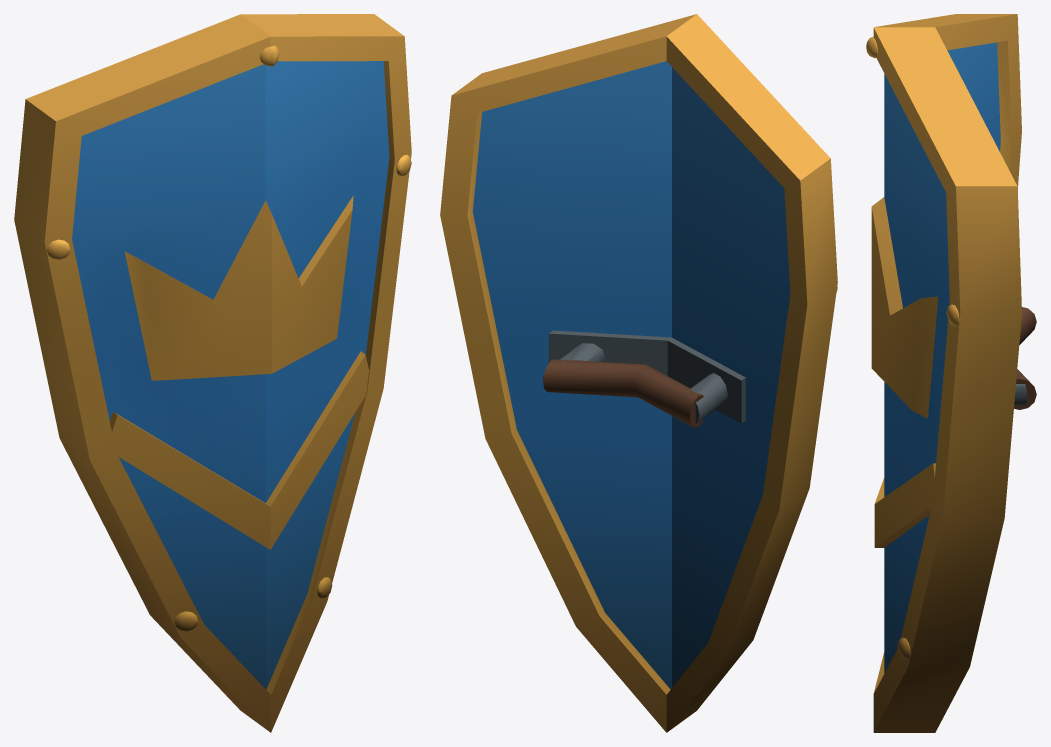
The model's file is shield_royal_crown.glb.
3 views of the same model, side by side, from view 1: azimuth 30°, elevation 25°; view 2: azimuth 150°, elevation 25°; view 3: azimuth 270°, elevation 25° (orthographic).
Parts seen in each view (by area): view 1: Item; view 2: Item; view 3: Item.
Part boxes in pixels (box(x1,y1,x2,y2)): Item: box(14, 14, 411, 732); Item: box(440, 14, 837, 732); Item: box(866, 14, 1036, 732).
Size of the model in its own units: 0.8 by 1.45 by 0.3178.
Materials: 4 (4 with a texture image).
